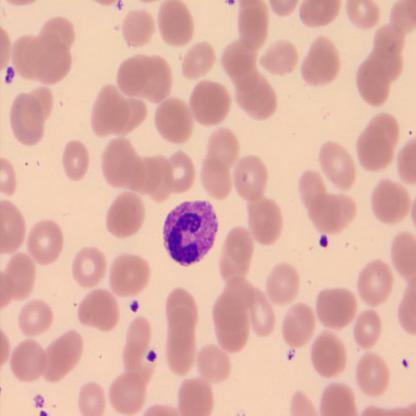Band Neutrophil: (160, 196, 220, 269)
